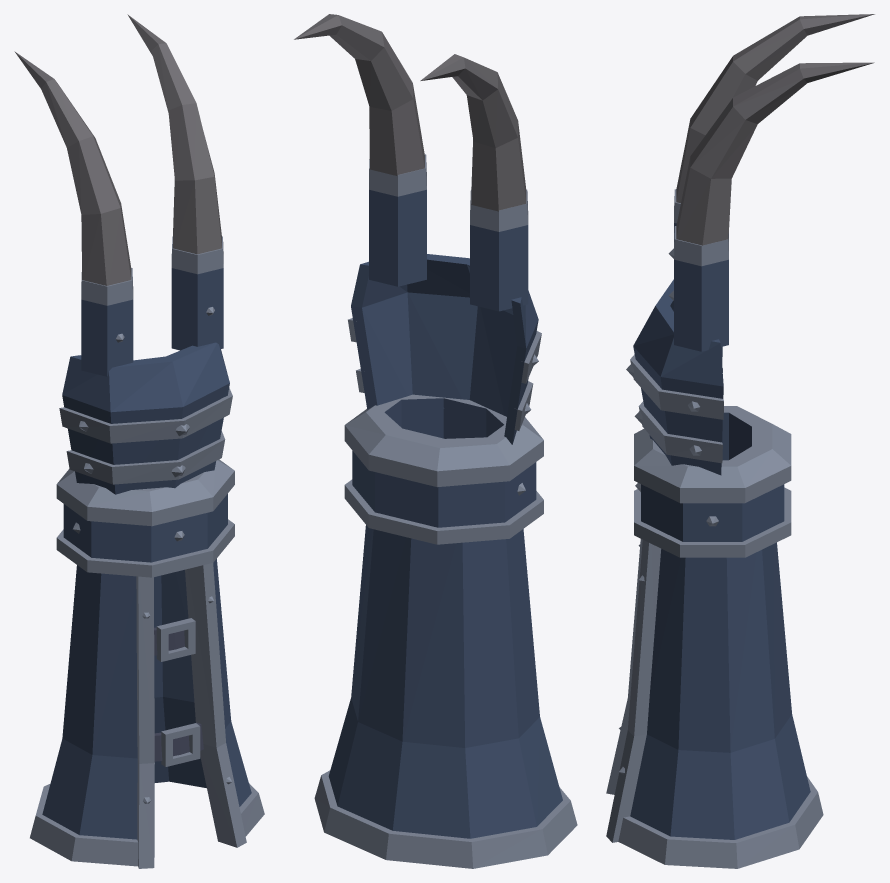
Rendered from claw-bracer-e3397d.glb.
The picture shows the model from 3 angles, left to right: view 1: azimuth 30°, elevation 25°; view 2: azimuth 150°, elevation 25°; view 3: azimuth 270°, elevation 25°; orthographic projection. The views are drawn at different scales.
Parts seen in each view (by area): view 1: bracer-metal, claws-talon, bracer-matte; view 2: bracer-metal, claws-talon; view 3: bracer-metal, claws-talon.
Part boxes in pixels (<box>): bracer-metal: <box>30,236,264,868</box>; claws-talon: <box>14,14,221,285</box>; bracer-matte: <box>154,627,203,761</box>; bracer-metal: <box>314,154,577,868</box>; claws-talon: <box>294,14,526,211</box>; bracer-metal: <box>606,189,823,868</box>; claws-talon: <box>676,14,874,245</box>.
Size of the model in its own units: 0.1384 by 0.4671 by 0.1458.
